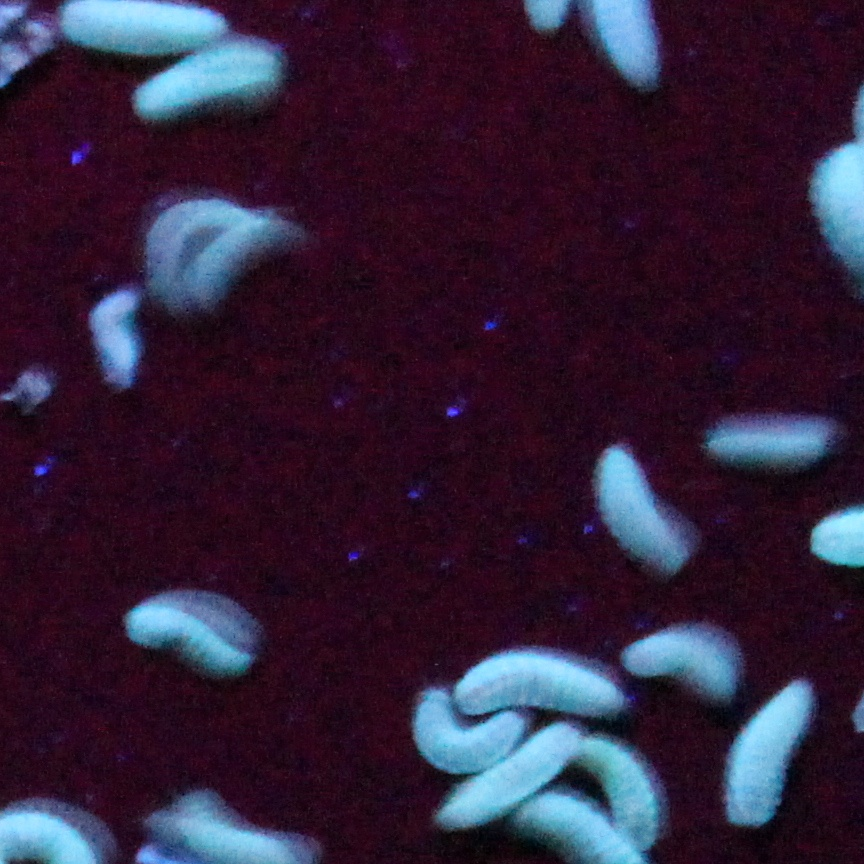larve: (441, 723, 579, 825), (724, 680, 811, 826), (596, 447, 686, 569), (457, 654, 624, 716), (135, 45, 277, 112), (575, 737, 658, 847), (147, 199, 252, 285), (416, 695, 524, 771), (126, 606, 250, 670), (625, 631, 734, 695), (195, 218, 290, 282), (709, 430, 825, 462)
